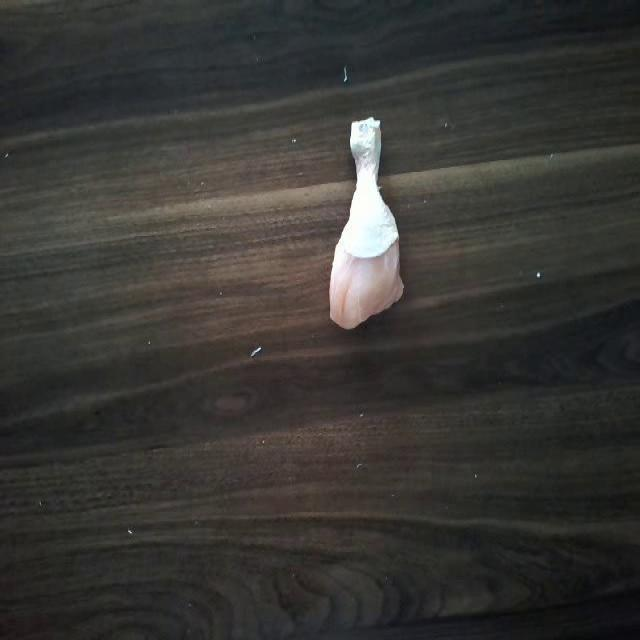leg: (324, 115, 408, 334)
